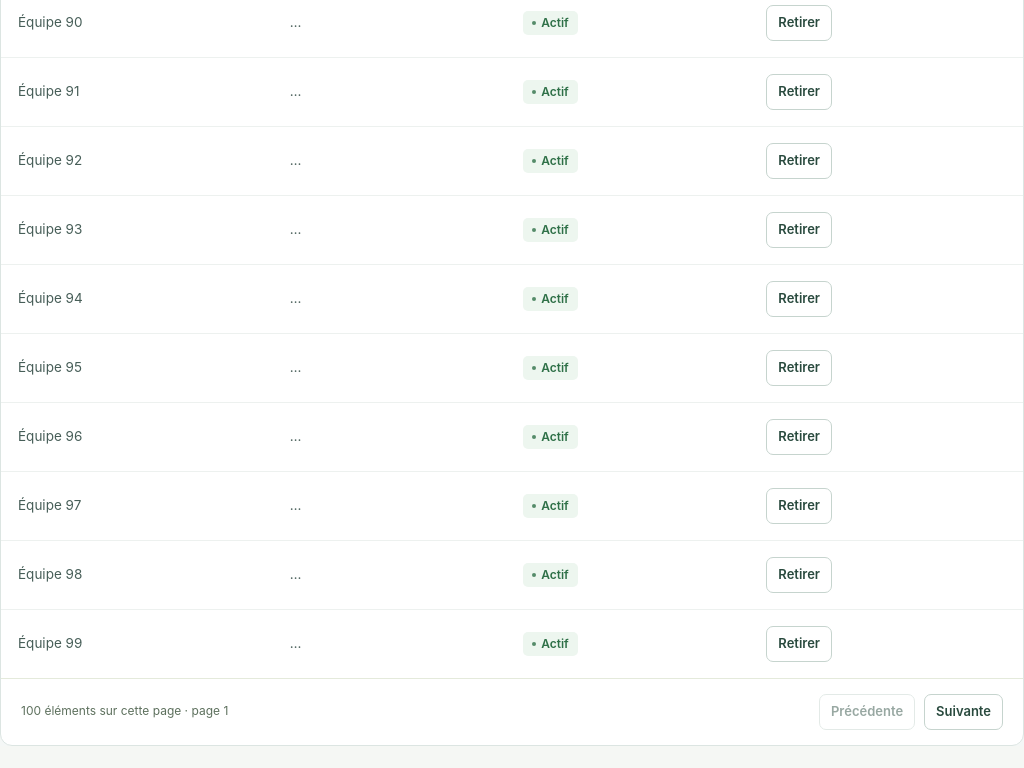
Test: la fiche expose les groupes au-delà de la centième ligne et permet le retrait depuis la dernière page
(page scrolled)
Expected: the text "Équipe 100" is not shown
What coordinates should you click on to do the following:
click the button "Suivante"
I would click on:
 (964, 712)
Its box is top-left (924, 694), bottom-right (1003, 730).
(page scrolled)
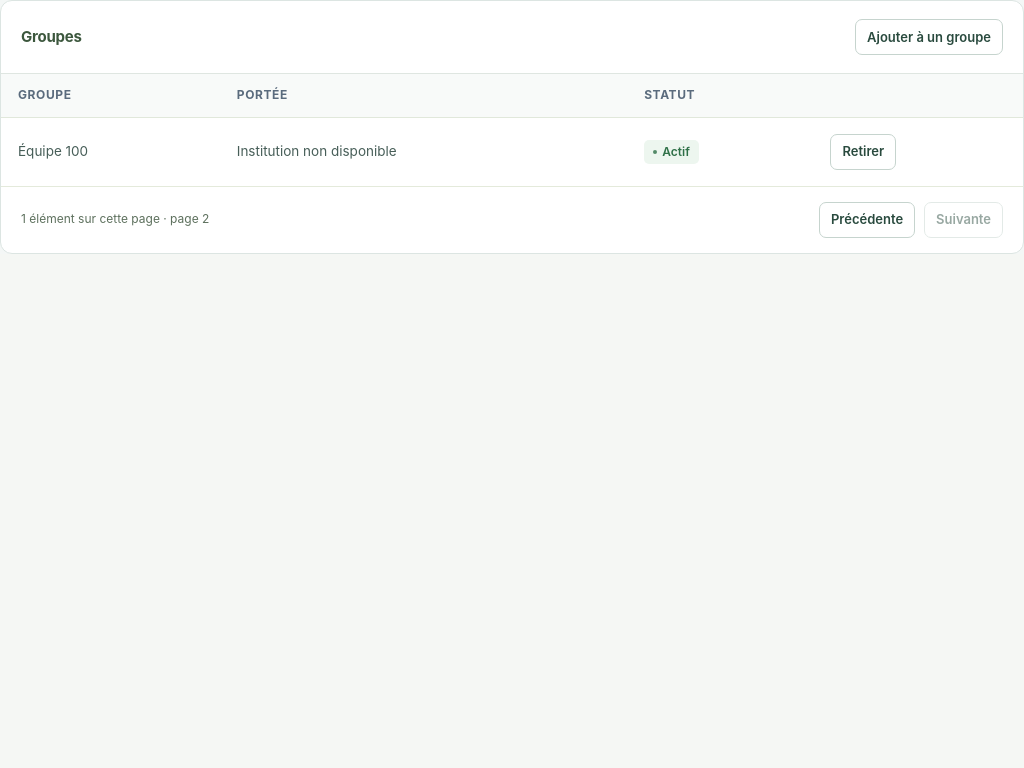
Expected: the button "Retirer" is enabled, top-left (830, 134), bottom-right (896, 170)
Expected: the text "Équipe 100" is shown, top-left (1, 117), bottom-right (220, 186)
